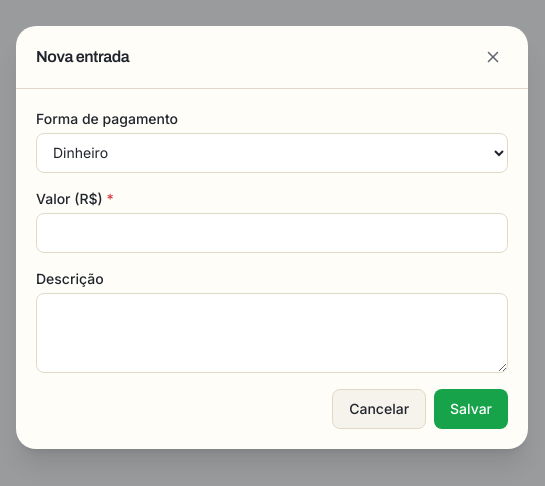
RegistrarMovimentoModal › requires a positive valor before submitting
Click the button "Salvar" at (471, 408), box [434, 388, 508, 428]
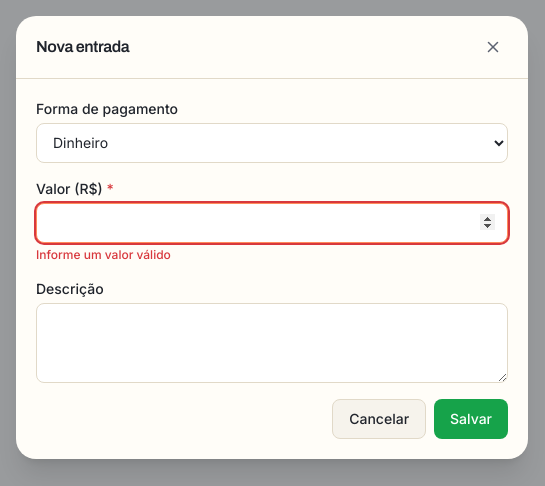
Expected: the text "Informe um valor válido" is shown, [36, 246, 171, 262]
